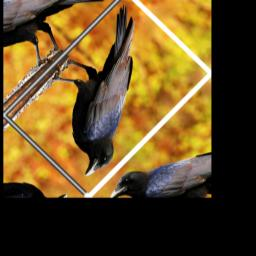Crow: (17, 3, 200, 183)
